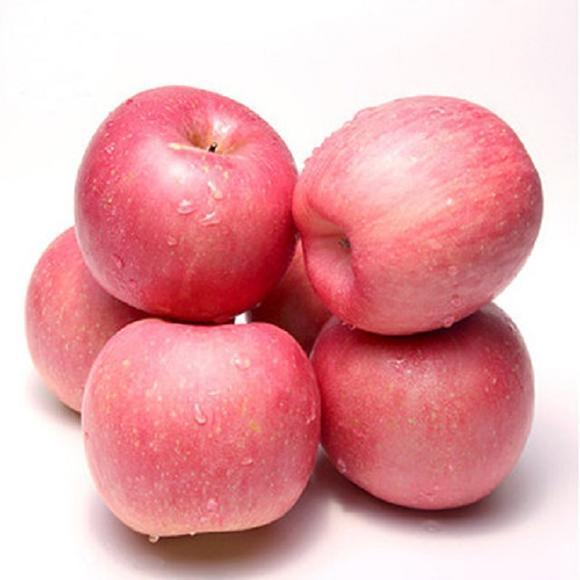apple: (295, 92, 549, 340), (77, 312, 323, 545), (73, 86, 295, 322), (307, 300, 538, 514), (24, 221, 240, 418)
